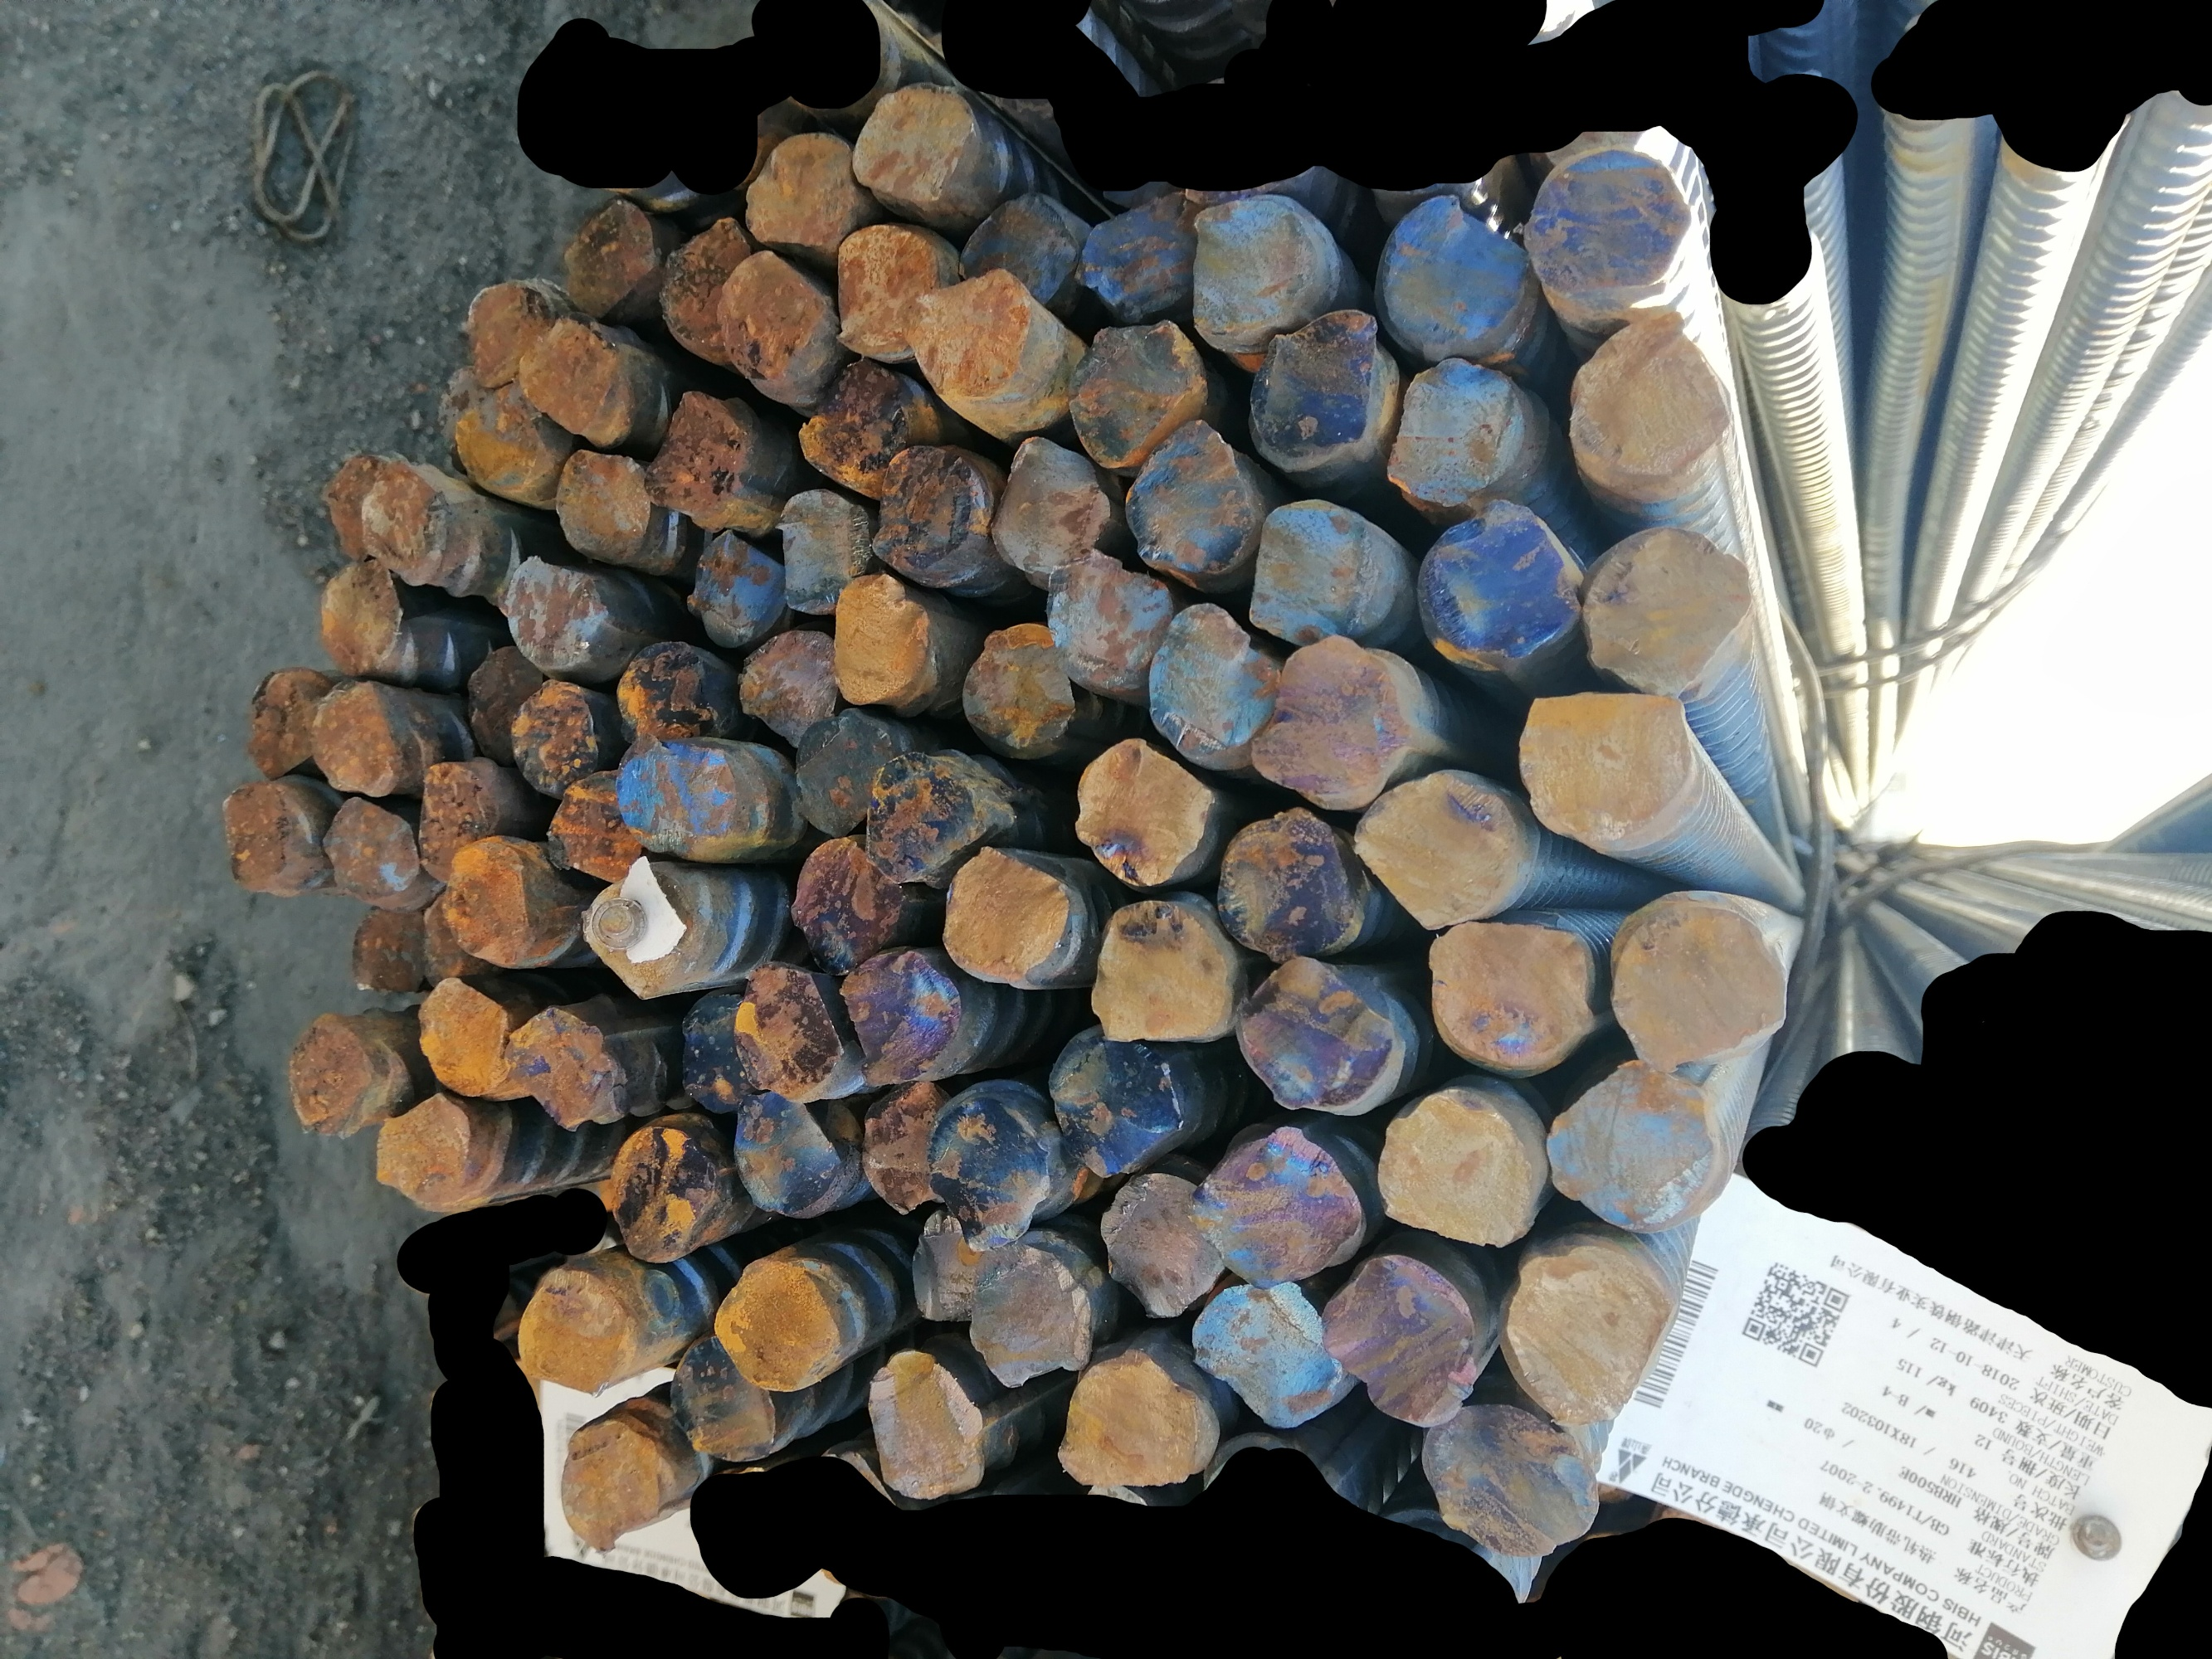rebar: (1609, 885, 1788, 1068), (1572, 301, 1740, 497), (1518, 681, 1700, 852), (1579, 519, 1754, 694), (1372, 190, 1539, 366), (1229, 958, 1414, 1117), (1323, 1248, 1482, 1431), (1508, 1244, 1673, 1419), (1377, 1082, 1537, 1262), (1546, 1058, 1713, 1227), (1360, 758, 1522, 932), (1194, 1126, 1365, 1290), (1248, 638, 1422, 798), (1525, 146, 1701, 300), (1426, 1399, 1600, 1547), (1058, 1338, 1218, 1499), (1424, 920, 1591, 1073), (1419, 500, 1576, 662), (1245, 303, 1391, 471), (1185, 1279, 1346, 1431), (1377, 359, 1534, 511), (1088, 894, 1238, 1053), (795, 349, 948, 498), (1215, 798, 1353, 962), (1075, 734, 1215, 890), (929, 1079, 1056, 1249), (903, 270, 1049, 416), (861, 1340, 992, 1504), (1069, 312, 1208, 464), (1143, 596, 1269, 763), (1044, 1026, 1180, 1180), (1117, 415, 1245, 570), (1100, 1168, 1224, 1326), (1044, 542, 1171, 695), (1184, 195, 1321, 336), (861, 443, 995, 587), (556, 1405, 680, 1561), (964, 1230, 1091, 1382), (600, 1114, 722, 1270), (654, 1324, 784, 1469), (943, 847, 1077, 986), (706, 1248, 835, 1392), (992, 425, 1109, 580), (1248, 497, 1374, 640), (734, 950, 847, 1105), (847, 80, 980, 213), (861, 741, 981, 885), (844, 946, 967, 1086), (725, 1077, 844, 1222), (964, 612, 1081, 758), (516, 1256, 640, 1392), (573, 873, 695, 1007), (831, 214, 943, 361), (821, 568, 934, 711), (739, 125, 861, 256), (786, 695, 901, 833), (781, 831, 903, 958), (638, 389, 758, 516), (659, 204, 755, 361), (490, 538, 605, 669), (617, 742, 736, 868), (715, 247, 821, 385), (506, 1006, 615, 1138), (429, 833, 539, 962), (851, 1075, 952, 1215), (413, 976, 516, 1110), (539, 763, 641, 897), (551, 434, 661, 556), (455, 376, 561, 502), (899, 1206, 1008, 1328), (952, 192, 1075, 298), (1081, 204, 1198, 315), (737, 619, 844, 741), (214, 777, 319, 901), (286, 1011, 387, 1136), (614, 629, 722, 746), (779, 477, 872, 613), (359, 467, 462, 589), (364, 1093, 476, 1204), (317, 441, 415, 566), (556, 188, 655, 308), (305, 685, 411, 796), (689, 525, 786, 645), (519, 312, 615, 434), (664, 985, 750, 1119), (316, 793, 422, 899), (460, 275, 556, 390), (316, 554, 406, 674), (406, 758, 495, 880), (507, 676, 596, 791), (242, 660, 328, 777), (462, 641, 546, 756), (347, 899, 425, 1007), (408, 890, 478, 983)
